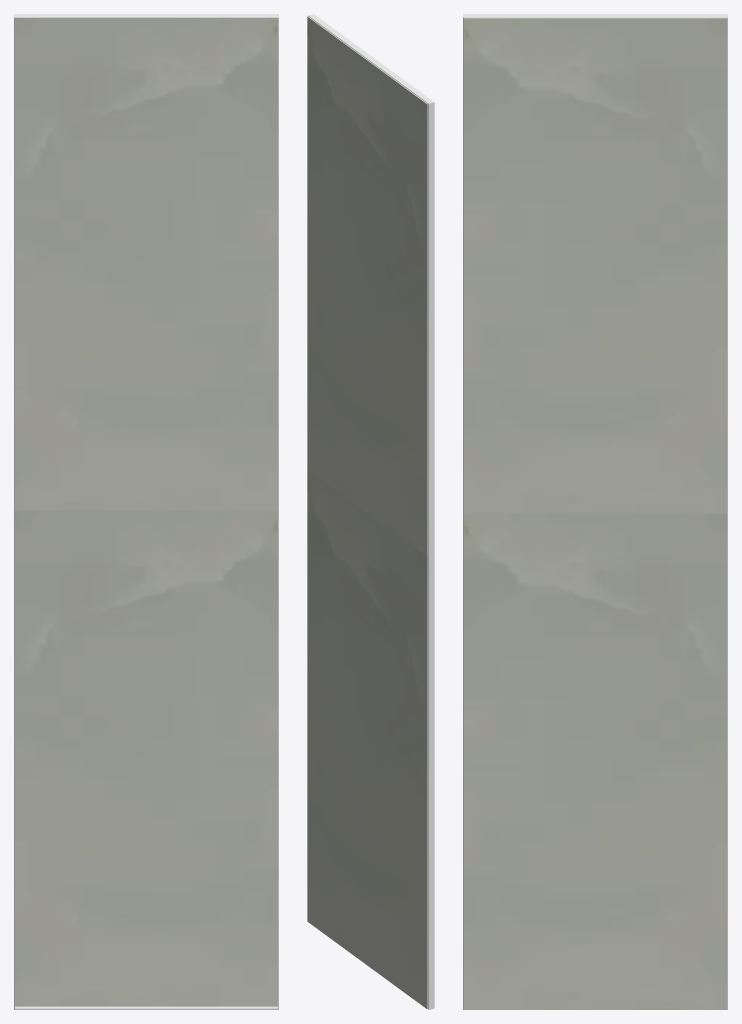
The model's file is TALL VP 2400 R.glb.
The picture shows the model from 3 angles, left to right: view 1: azimuth 90°, elevation 25°; view 2: azimuth 210°, elevation 25°; view 3: azimuth 270°, elevation 25°; orthographic projection. The views are drawn at different scales.
Size of the model in its own units: 0.02 by 2.4 by 0.58.
Materials: 2 (1 with a texture image).
